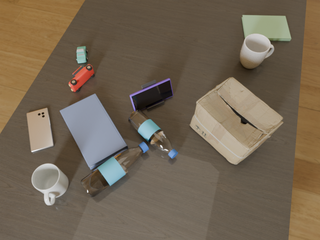book: (60, 94, 128, 169), (242, 15, 291, 41)
bottle: (81, 142, 149, 198), (128, 109, 178, 158)
box: (190, 77, 283, 164)
cup: (32, 164, 69, 205), (240, 33, 274, 69)
phone: (130, 78, 173, 111), (27, 108, 54, 152)
toy_car: (69, 64, 94, 92), (76, 46, 87, 63)
